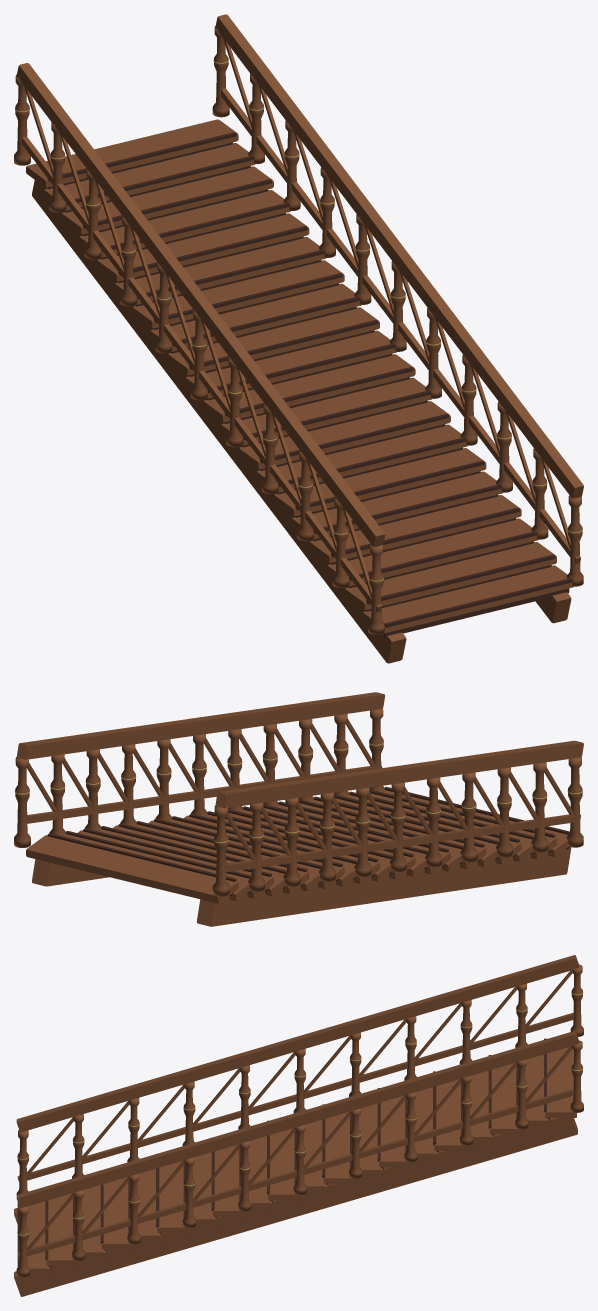
The model's file is timber_stairs.glb.
3 renders of one model, top to bottom at view 1: azimuth 30°, elevation 25°; view 2: azimuth 150°, elevation 25°; view 3: azimuth 270°, elevation 25°, orthographic. The views are drawn at different scales.
Parts seen in each view (by area): view 1: timber_stairs; view 2: timber_stairs; view 3: timber_stairs.
Boxes of the visible parts, left/top/right/bottom form: timber_stairs: left=14, top=14, right=583, bottom=663; timber_stairs: left=14, top=692, right=583, bottom=926; timber_stairs: left=14, top=955, right=583, bottom=1296.
Bounding box in the file's own units: 2.02 × 3.1 × 5.97.
